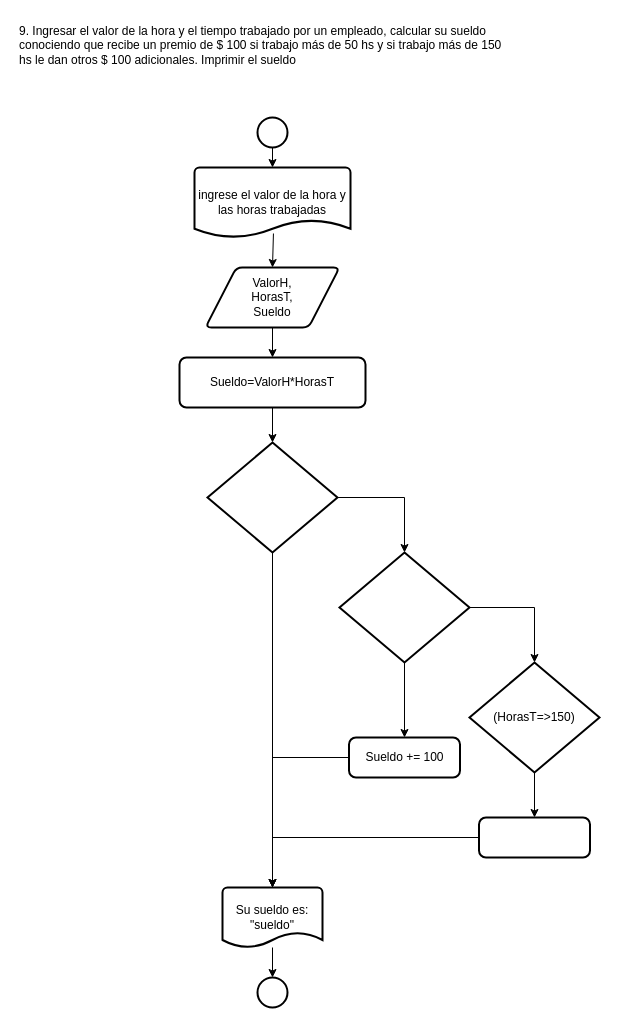
This 617x1025 diagram has some shape labels left out. Here are the shapes that lost their labels. From the top down, the centre of each, then its label:
At pixel 272 497: "(HorasT>0) && (HorasT<50)".
At pixel 404 607: "(HorasT<150)".
At pixel 534 837: "Sueldo += 200".
